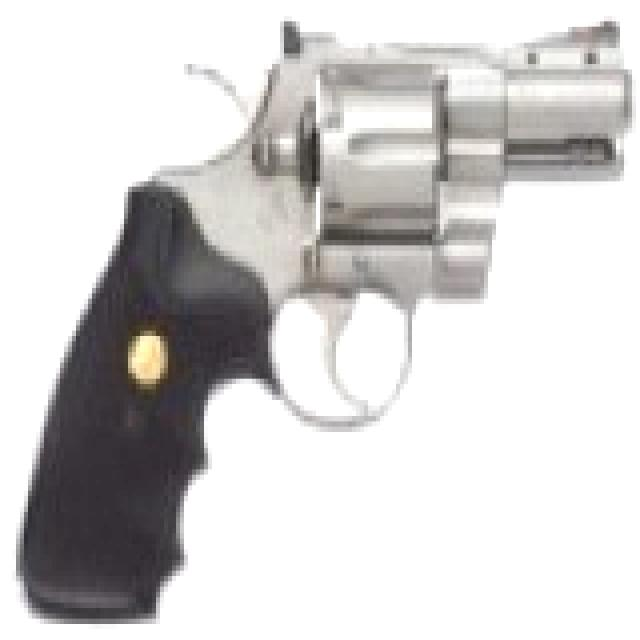pistol: (20, 11, 632, 618)
